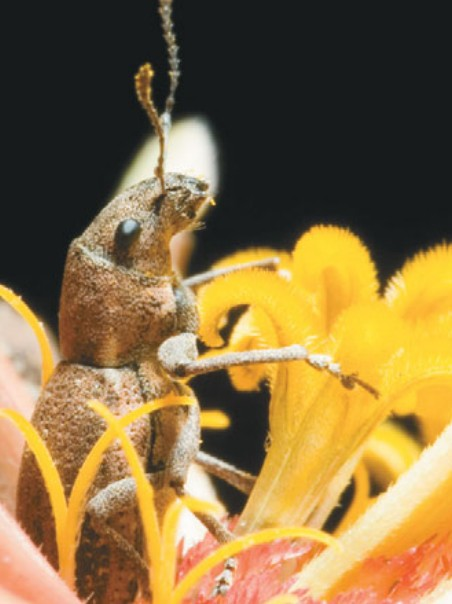dolgonosik: (9, 2, 342, 604)
